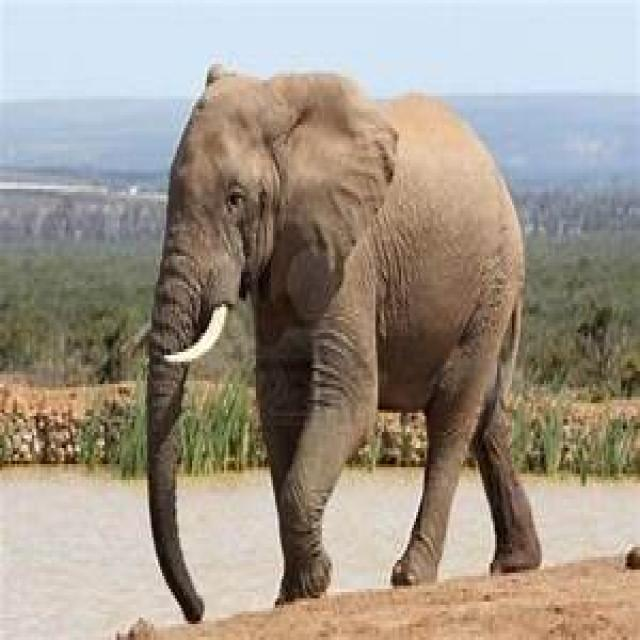elephant: (145, 61, 542, 624)
